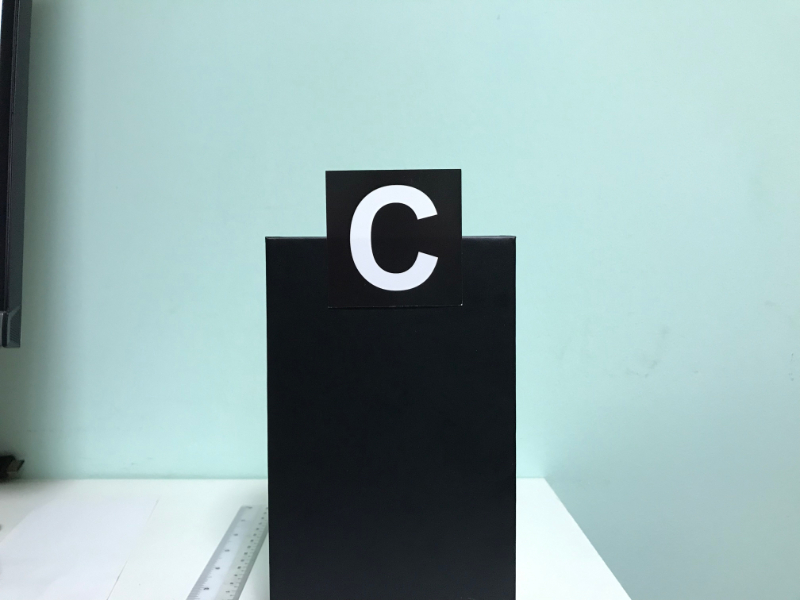C-13: (329, 172, 460, 303)
